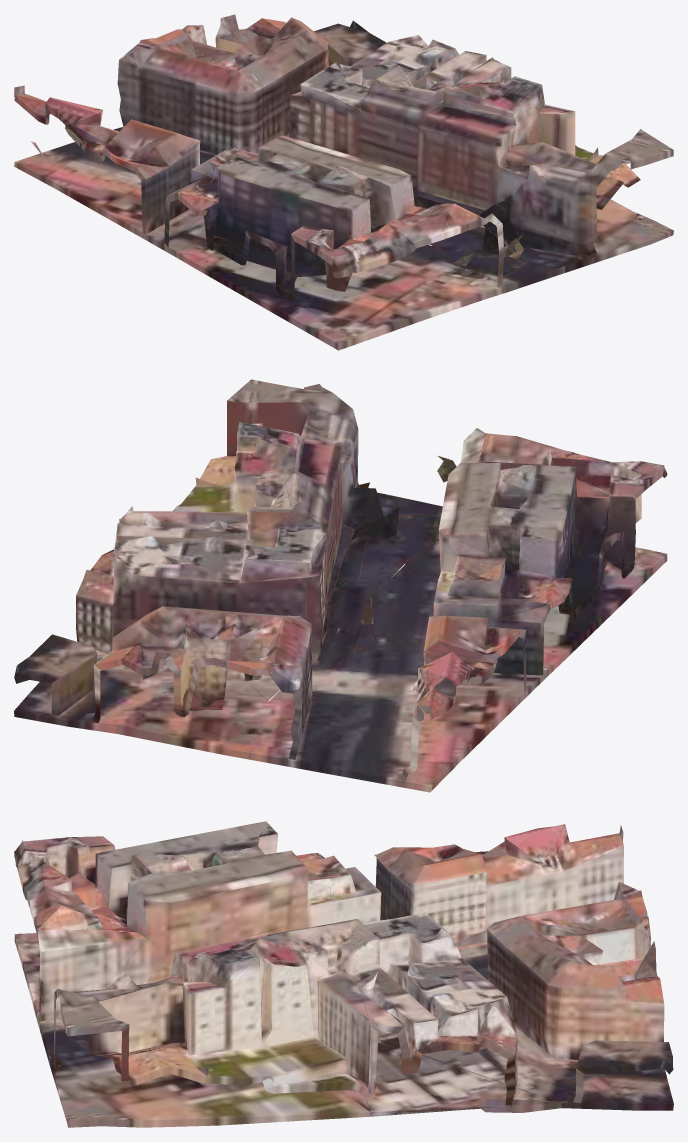
3 renders of one model, top to bottom at view 1: azimuth 30°, elevation 25°; view 2: azimuth 150°, elevation 25°; view 3: azimuth 270°, elevation 25°, orthographic. The views are drawn at different scales.
Parts seen in each view (by area): view 1: Mesh_0; view 2: Mesh_0; view 3: Mesh_0.
Boxes of the visible parts, x1,y1,x2,y2 form: Mesh_0: [14, 14, 673, 350]; Mesh_0: [14, 379, 667, 792]; Mesh_0: [14, 821, 673, 1127].
Bounding box in the file's own units: 133 × 39.21 × 165.
2 materials, 2 textured.
